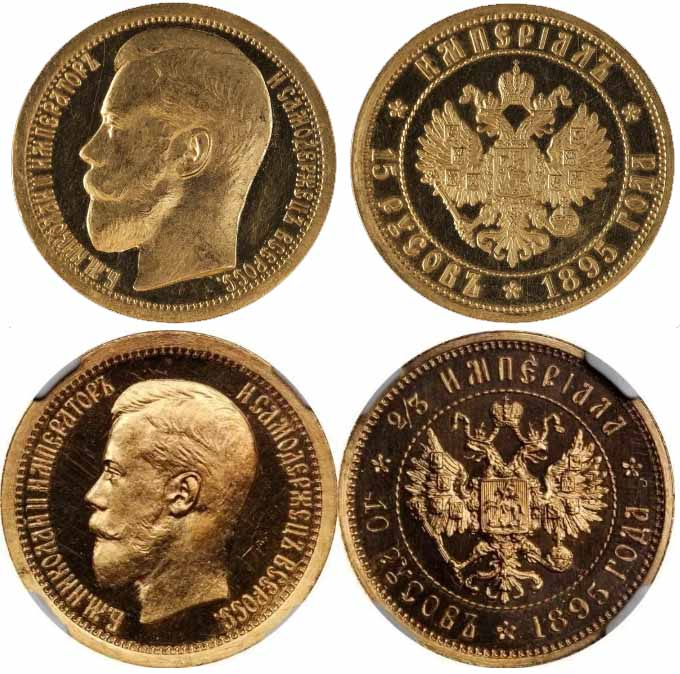coin: (2, 329, 336, 669), (339, 334, 676, 669), (7, 2, 338, 325), (352, 3, 674, 325)
